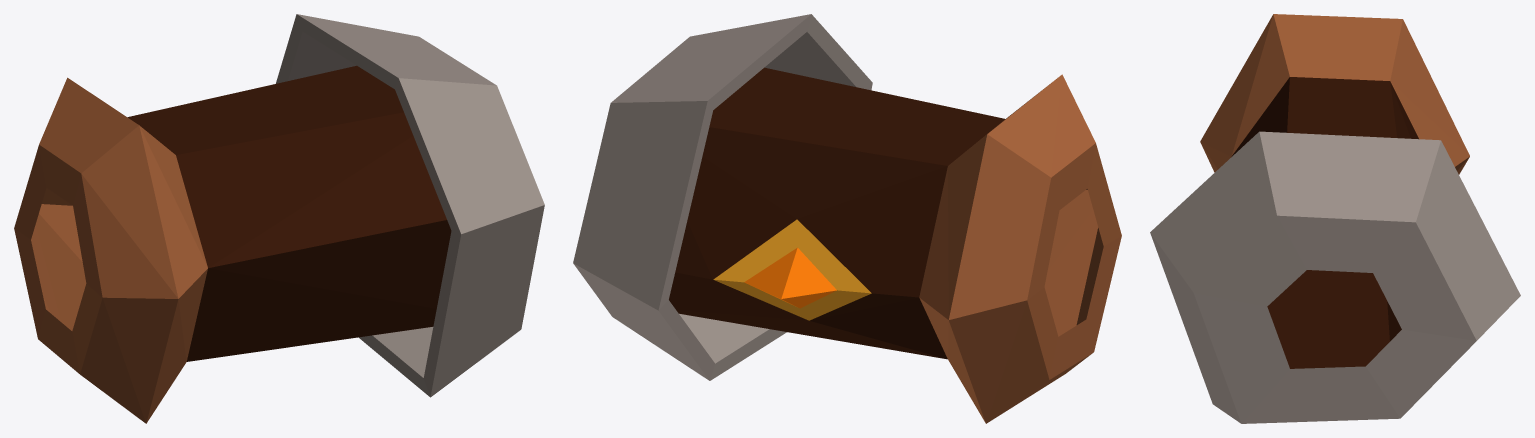
The model's file is Bracer 04.FBX.
3 renders of one model, left to right at view 1: azimuth 30°, elevation 25°; view 2: azimuth 150°, elevation 25°; view 3: azimuth 270°, elevation 25°, orthographic. The views are drawn at different scales.
Parts seen in each view (by area): view 1: Bracer 04; view 2: Bracer 04; view 3: Bracer 04.
Part boxes in pixels (x1,y1,x2,y2): Bracer 04: [14, 14, 544, 423]; Bracer 04: [573, 14, 1121, 423]; Bracer 04: [1150, 14, 1520, 423].
Size of the model in its own units: 17.05 by 12.22 by 14.79.
